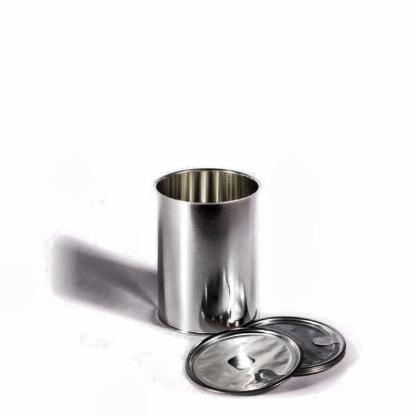Can: (150, 166, 258, 332), (184, 325, 306, 397), (242, 314, 348, 376)
